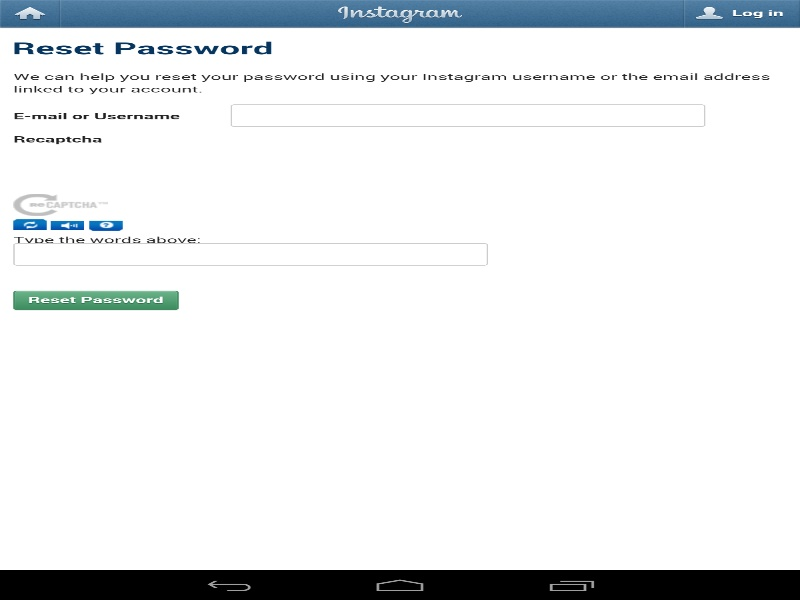Button: (13, 290, 178, 310)
Input: (230, 104, 706, 126), (13, 243, 488, 265)
